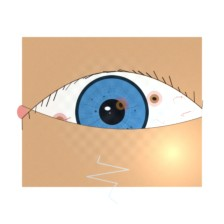foreign_body_visible: (143, 90, 165, 108)
